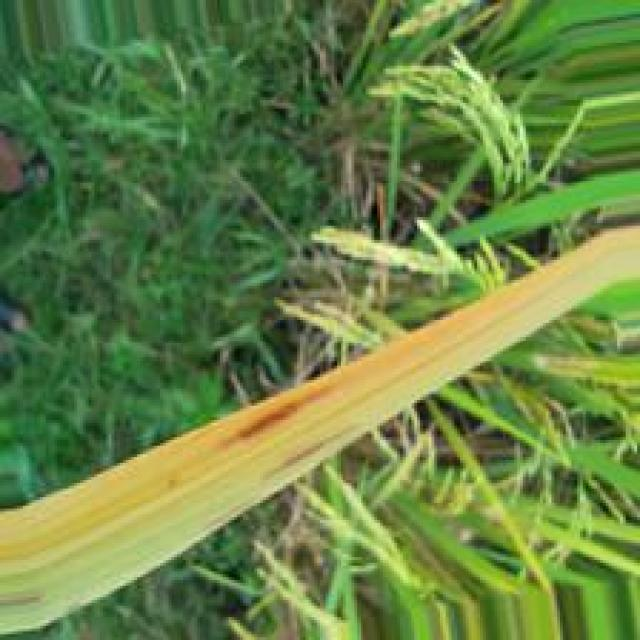Narrow_Brown_Leaf_Spot: (16, 226, 614, 564)
